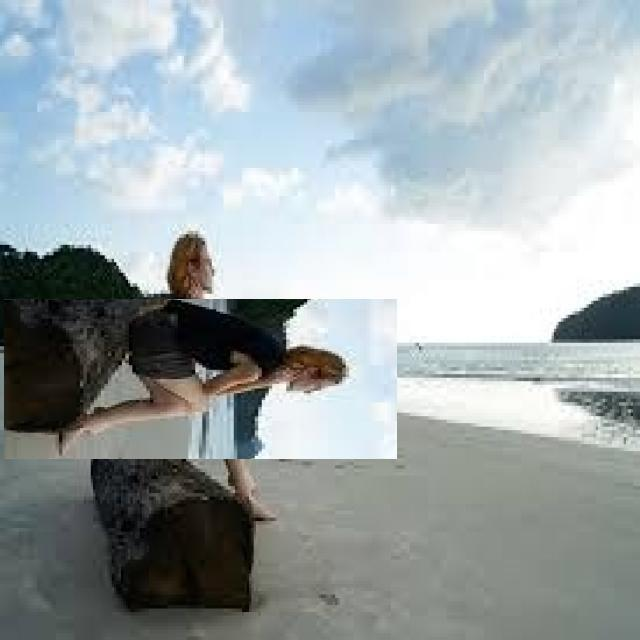NotFall: (0, 271, 443, 498)
